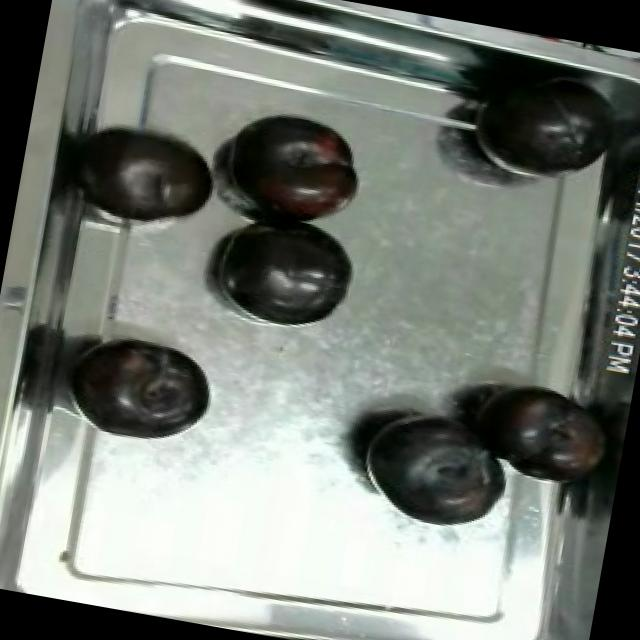Fruit: (342, 394, 524, 542), (213, 98, 377, 238), (203, 202, 370, 336), (464, 56, 626, 192), (458, 370, 624, 494), (67, 329, 222, 450), (98, 124, 225, 238)
